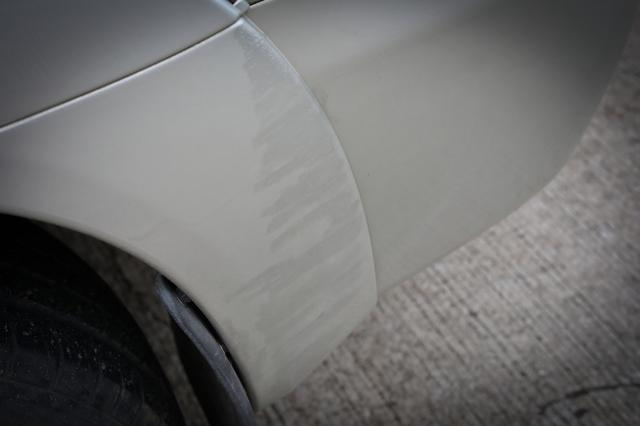rub: (209, 17, 377, 406)
